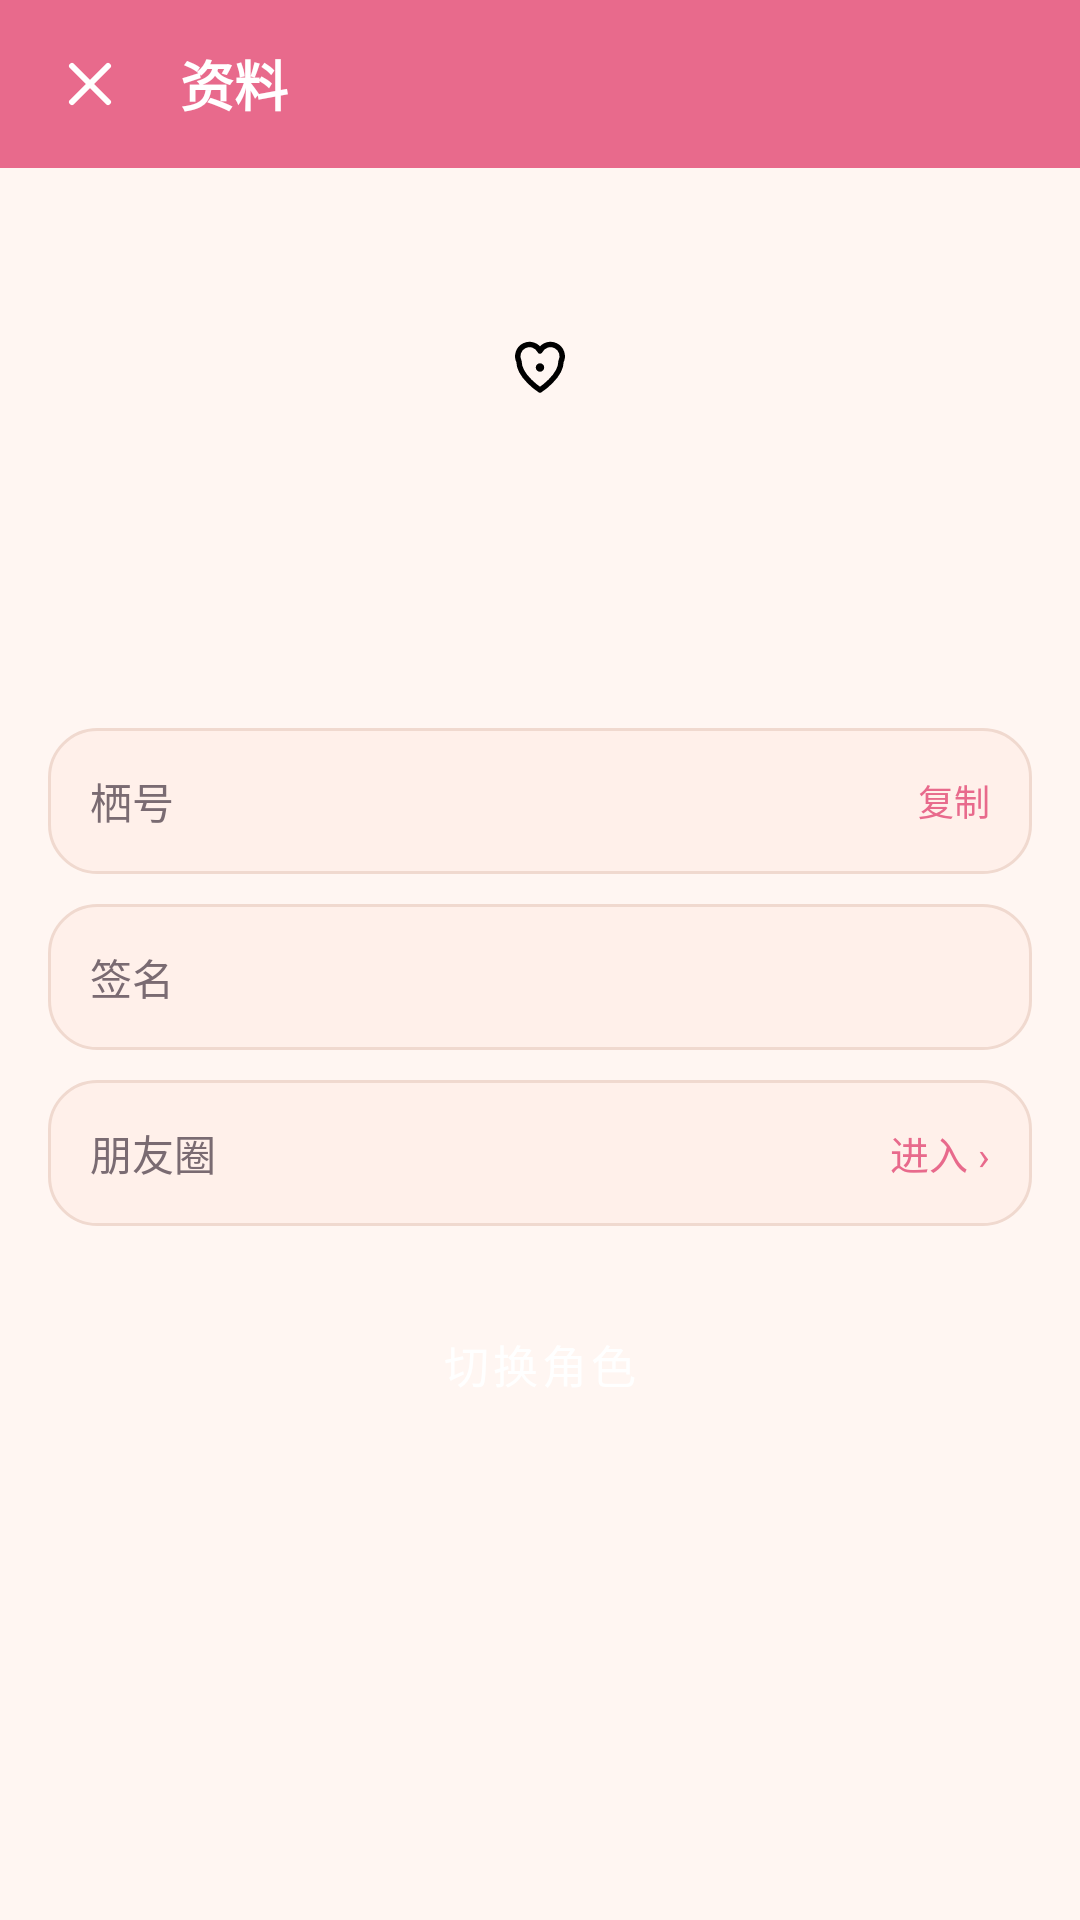

Screen size 1080w x 1920h. Icon name, then its box in pixels as (x1, y1, x2, y2):
返回: (69, 63, 111, 105)
